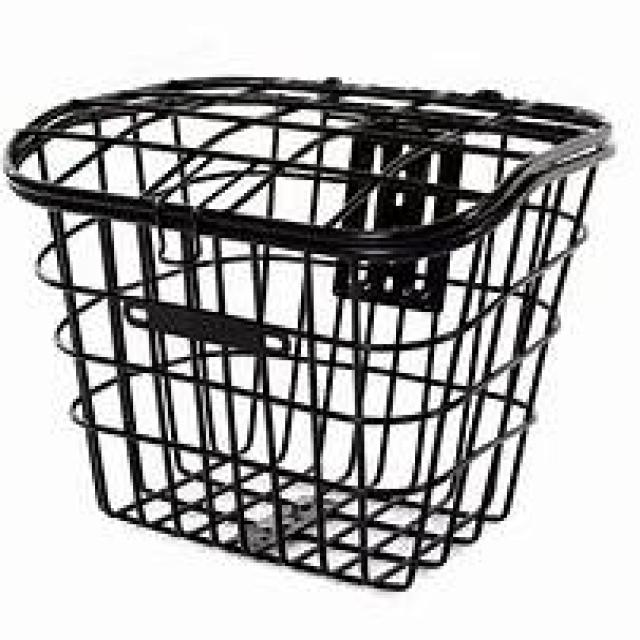basket: (4, 75, 612, 594)
